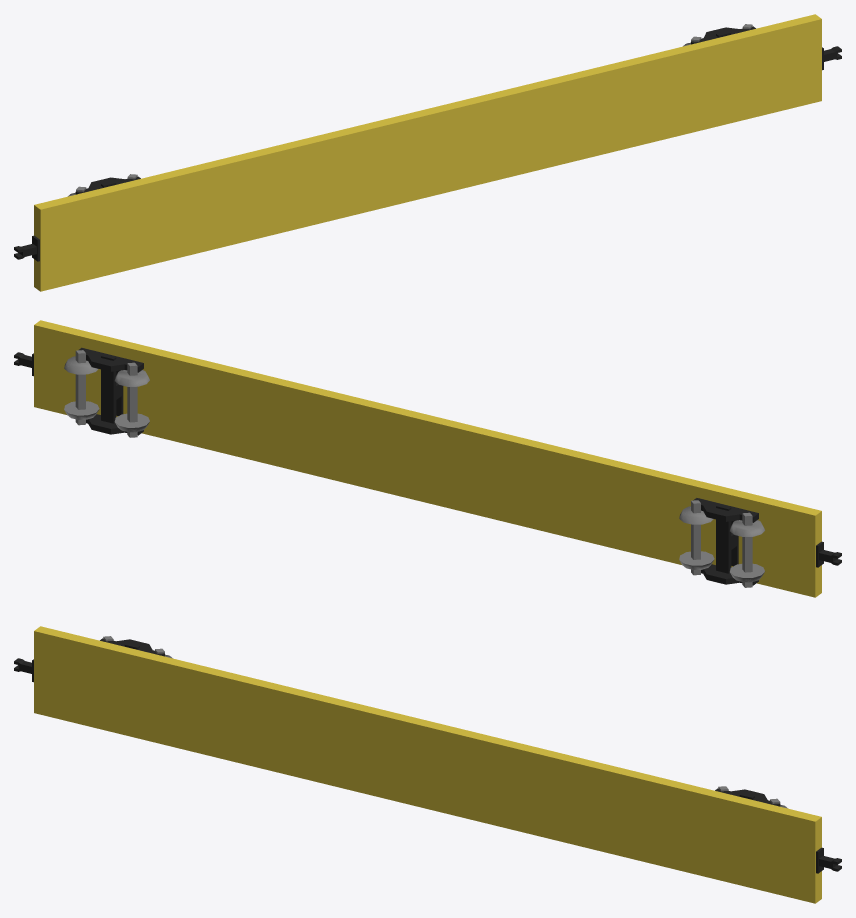
File: intermodal_flat_car_94.7ft_unloaded.dae
The picture shows the model from 3 angles, top to bottom: view 1: azimuth 30°, elevation 25°; view 2: azimuth 150°, elevation 25°; view 3: azimuth 330°, elevation 25°; orthographic projection.
Parts seen in each view (by area): view 1: coords_ME_ID150_MA_Platform; view 2: coords_ME_ID150_MA_Platform, coords_ME_ID118_MA_Frame, coords_ME_ID44_MA_Frame, coords_ME_ID124_MA_Frame, coords_ME_ID52_MA_Frame, coords_ME_ID25_MA_Wheels, coords_ME_ID99_MA_Wheels, coords_ME_ID19_MA_Wheels, coords_ME_ID93_MA_Wheels; view 3: coords_ME_ID150_MA_Platform.
Part boxes in pixels (x1=…): coords_ME_ID150_MA_Platform: x1=34, y1=14, x2=821, y2=291; coords_ME_ID150_MA_Platform: x1=34, y1=320, x2=821, y2=597; coords_ME_ID118_MA_Frame: x1=716, y1=504, x2=738, y2=573; coords_ME_ID44_MA_Frame: x1=101, y1=354, x2=123, y2=423; coords_ME_ID124_MA_Frame: x1=693, y1=498, x2=758, y2=522; coords_ME_ID52_MA_Frame: x1=78, y1=347, x2=143, y2=372; coords_ME_ID25_MA_Wheels: x1=127, y1=362, x2=137, y2=437; coords_ME_ID99_MA_Wheels: x1=742, y1=512, x2=752, y2=587; coords_ME_ID19_MA_Wheels: x1=75, y1=350, x2=85, y2=425; coords_ME_ID93_MA_Wheels: x1=691, y1=500, x2=700, y2=575; coords_ME_ID150_MA_Platform: x1=34, y1=626, x2=821, y2=903.
Bounding box in the file's own units: 289 × 27.5 × 15.49.
